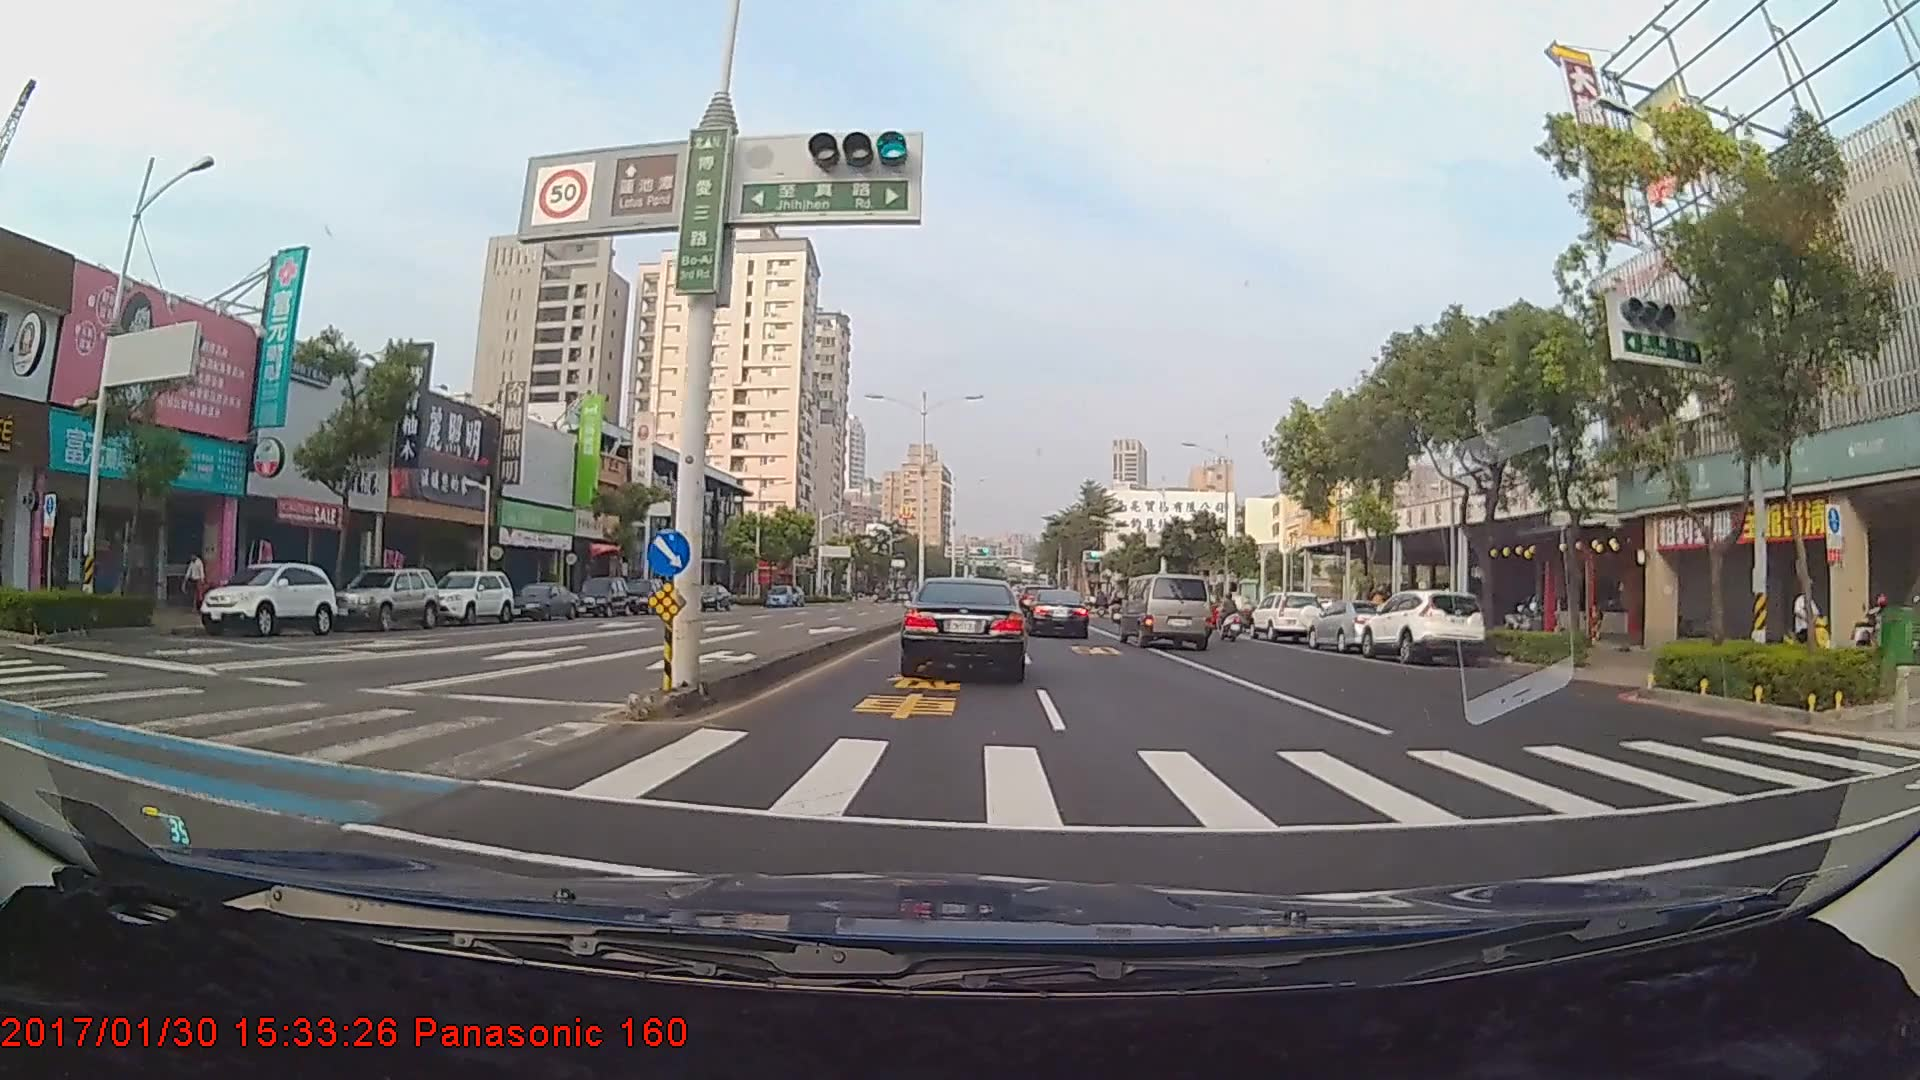pedestrian: (184, 554, 208, 617)
rider: (1211, 592, 1247, 642)
vehicle: (902, 576, 1023, 679), (1354, 586, 1487, 664), (195, 561, 335, 635), (326, 565, 437, 632), (1119, 574, 1211, 649), (1303, 598, 1400, 653), (425, 570, 516, 627), (1251, 592, 1321, 643), (499, 579, 577, 622), (1022, 589, 1089, 639), (568, 573, 631, 616), (617, 576, 667, 614)
